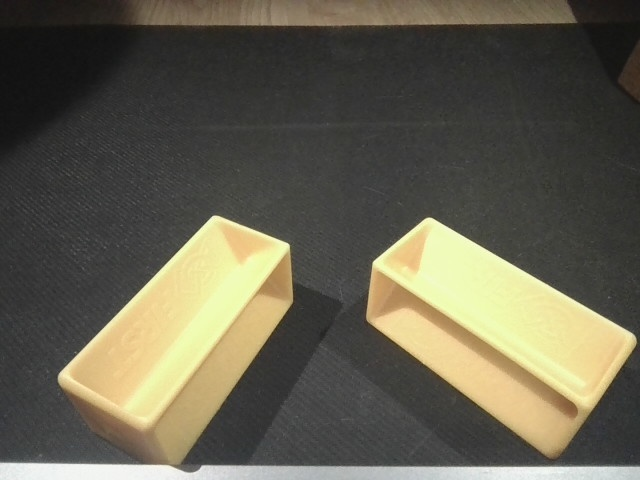YellowSample: (364, 213, 637, 461), (52, 209, 297, 464)
